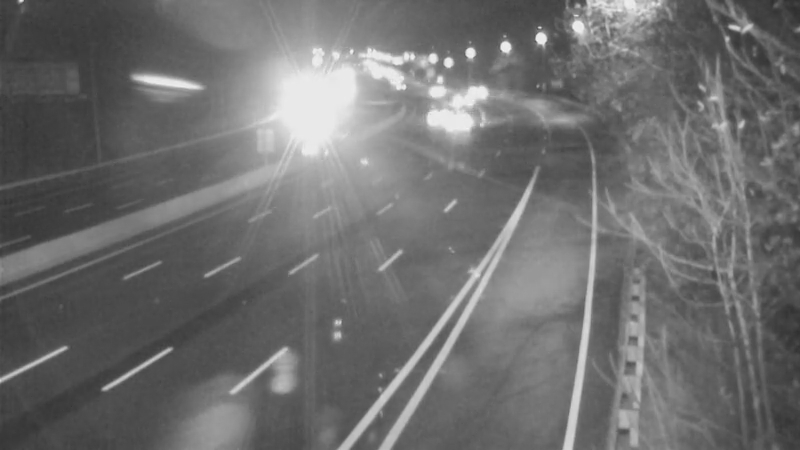vehicle: (376, 61, 426, 111), (402, 66, 452, 116), (453, 68, 503, 118), (440, 76, 490, 126), (411, 90, 461, 140), (435, 99, 485, 149), (284, 83, 334, 133)
